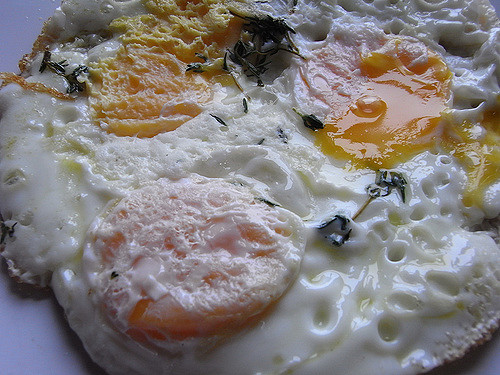fried egg: (59, 29, 476, 358)
